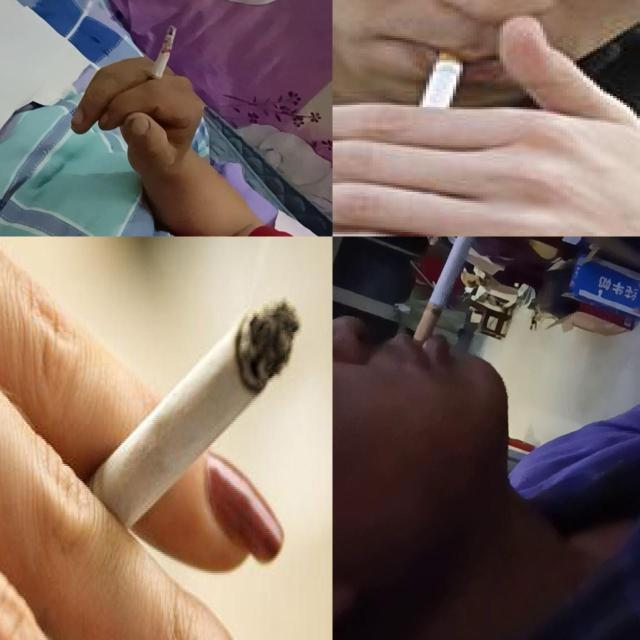smoking: (43, 294, 303, 582), (414, 236, 488, 344), (418, 37, 470, 125), (144, 24, 178, 94)
